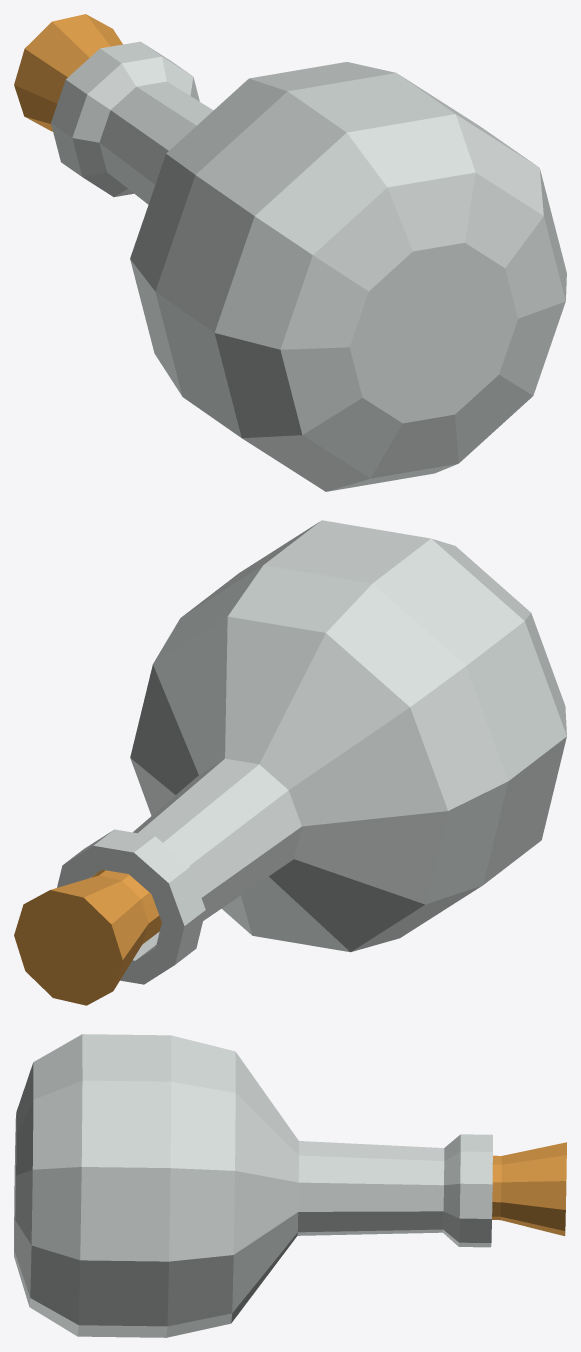
Rendered from Artifact_Flask.fbx.
3 views of the same model, one above another, from view 1: azimuth 30°, elevation 25°; view 2: azimuth 150°, elevation 25°; view 3: azimuth 270°, elevation 25° (orthographic). The views are drawn at different scales.
Visible parts, largest first — view 1: imagetostl_mesh0, imagetostl_mesh2; view 2: imagetostl_mesh0, imagetostl_mesh2; view 3: imagetostl_mesh0, imagetostl_mesh2.
Part boxes in pixels (<box>): imagetostl_mesh0: <box>51,41,566,491</box>; imagetostl_mesh2: <box>14,14,122,131</box>; imagetostl_mesh0: <box>57,520,566,984</box>; imagetostl_mesh2: <box>14,869,161,1005</box>; imagetostl_mesh0: <box>14,1034,492,1337</box>; imagetostl_mesh2: <box>492,1142,566,1236</box>.
Bounding box in the file's own units: 18.97 × 18.53 × 34.08.
